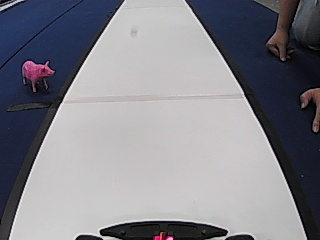pig: (18, 58, 57, 95)
